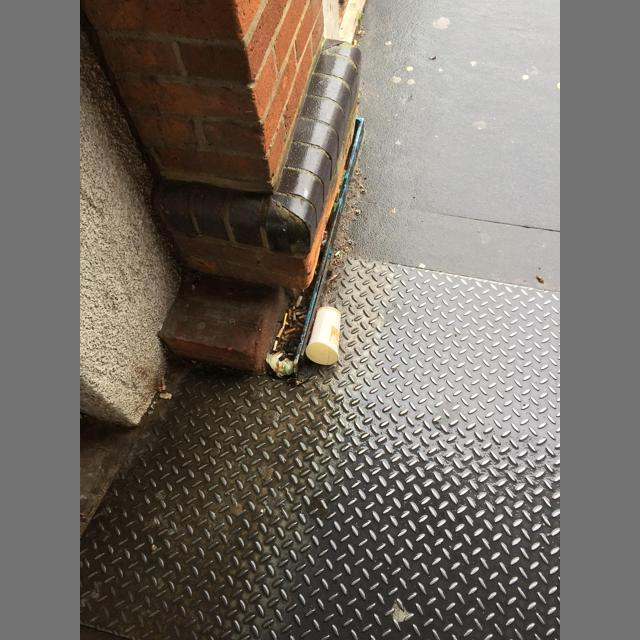litter: (306, 306, 341, 365), (266, 350, 294, 378), (276, 328, 284, 339), (295, 296, 303, 307), (284, 328, 295, 335), (273, 340, 278, 351), (296, 311, 307, 316), (297, 322, 304, 329), (276, 353, 283, 359), (299, 315, 307, 320), (273, 352, 280, 357), (288, 309, 291, 320), (301, 315, 306, 321), (293, 307, 295, 322), (353, 39, 356, 46), (288, 353, 293, 356), (162, 385, 165, 390)
